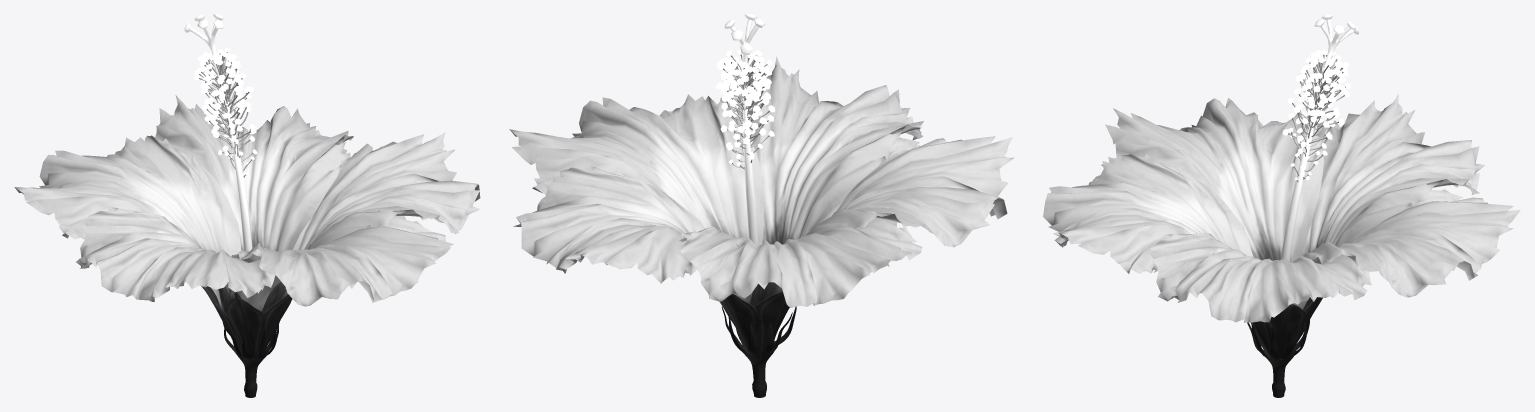
Rendered from hibiscus.glb.
3 views of the same model, side by side, from view 1: azimuth 30°, elevation 25°; view 2: azimuth 150°, elevation 25°; view 3: azimuth 270°, elevation 25° (orthographic). The views are drawn at different scales.
Bounding box in the file's own units: 0.2232 × 0.1933 × 0.226.
Materials: 1 (1 with a texture image).
